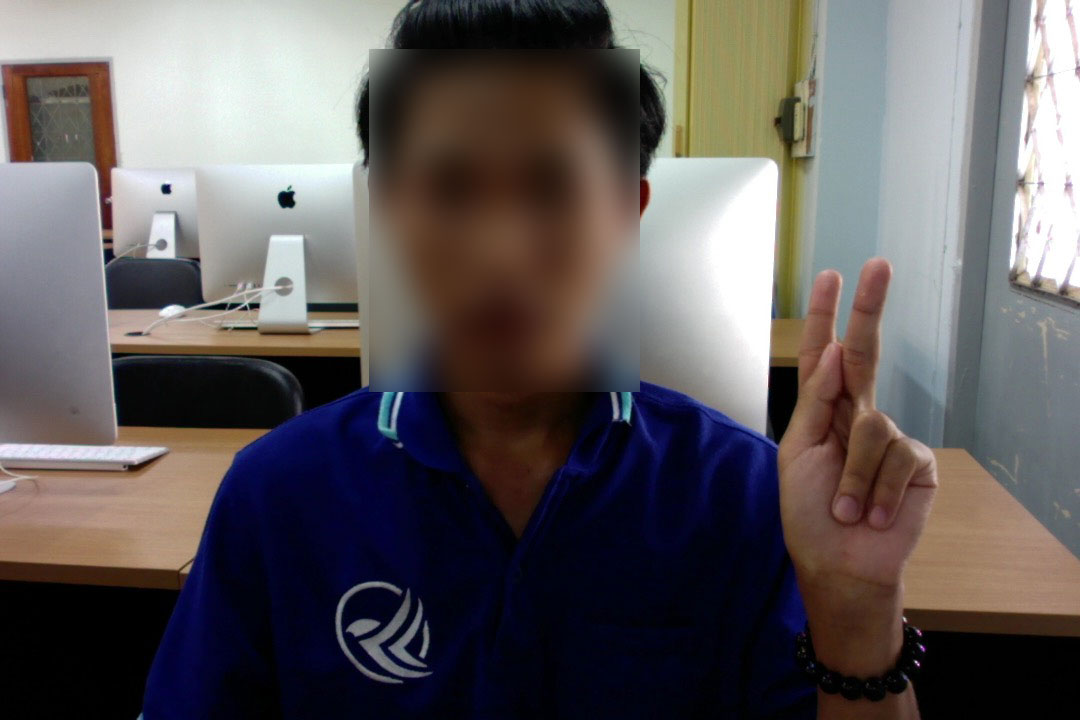ko: (769, 245, 942, 600)
